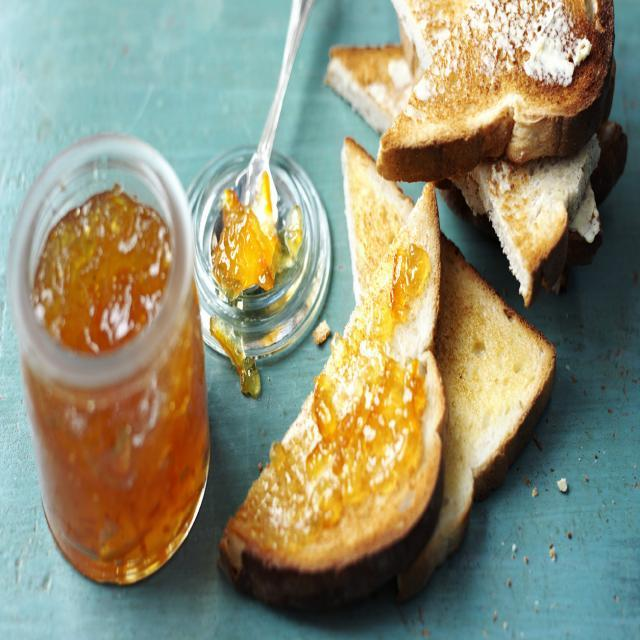Spread: (250, 268, 432, 546)
